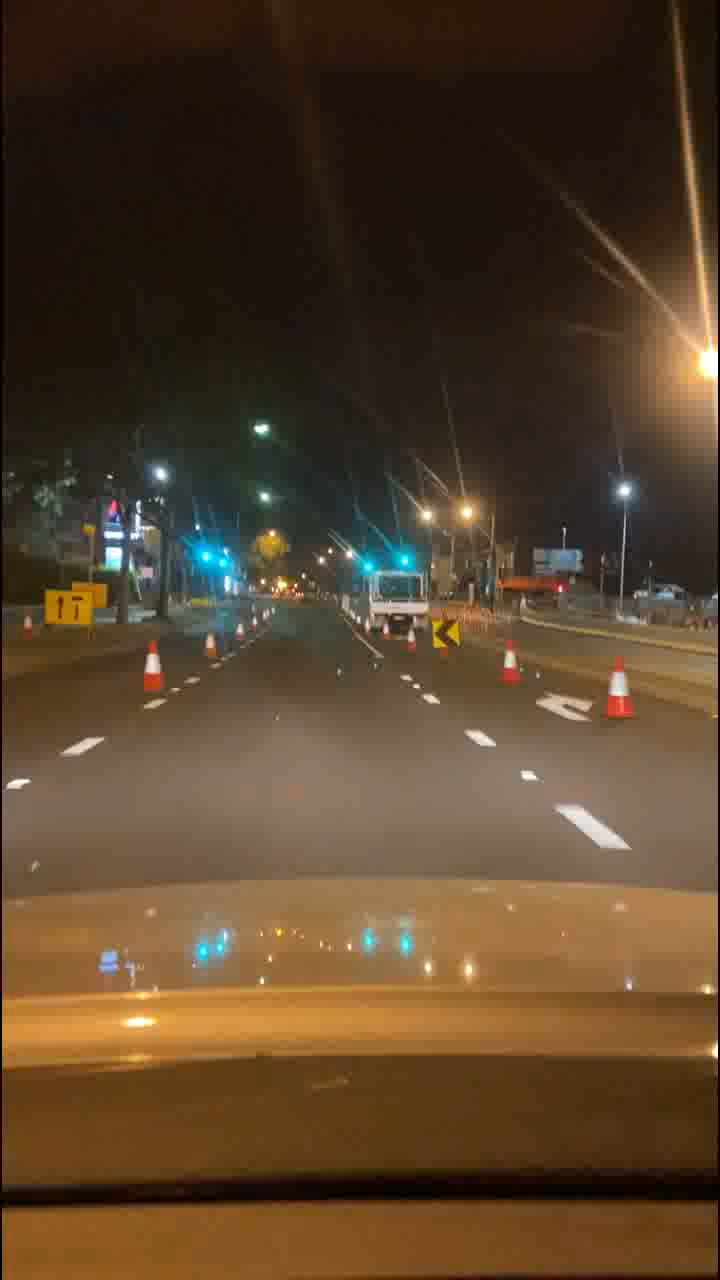road cone: (133, 638, 166, 700), (189, 619, 222, 681), (597, 654, 630, 716), (493, 629, 526, 691)
road works sign board: (47, 588, 91, 630), (427, 617, 460, 654)
truck: (339, 563, 427, 638)
